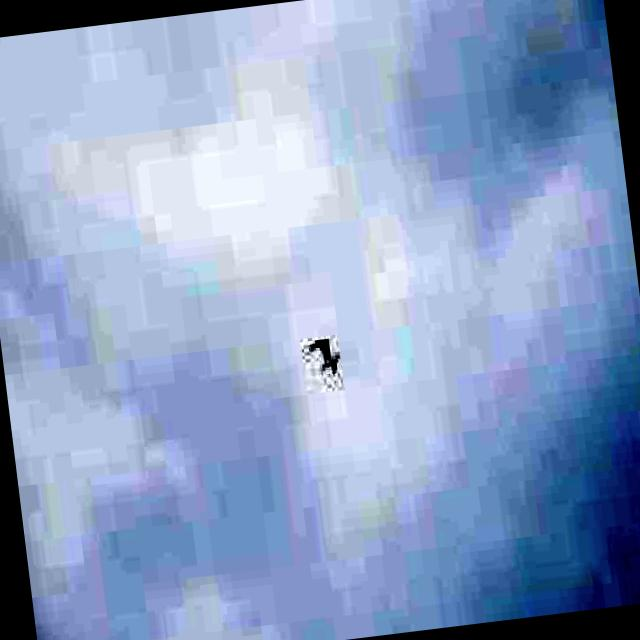bird: (299, 318, 345, 385)
